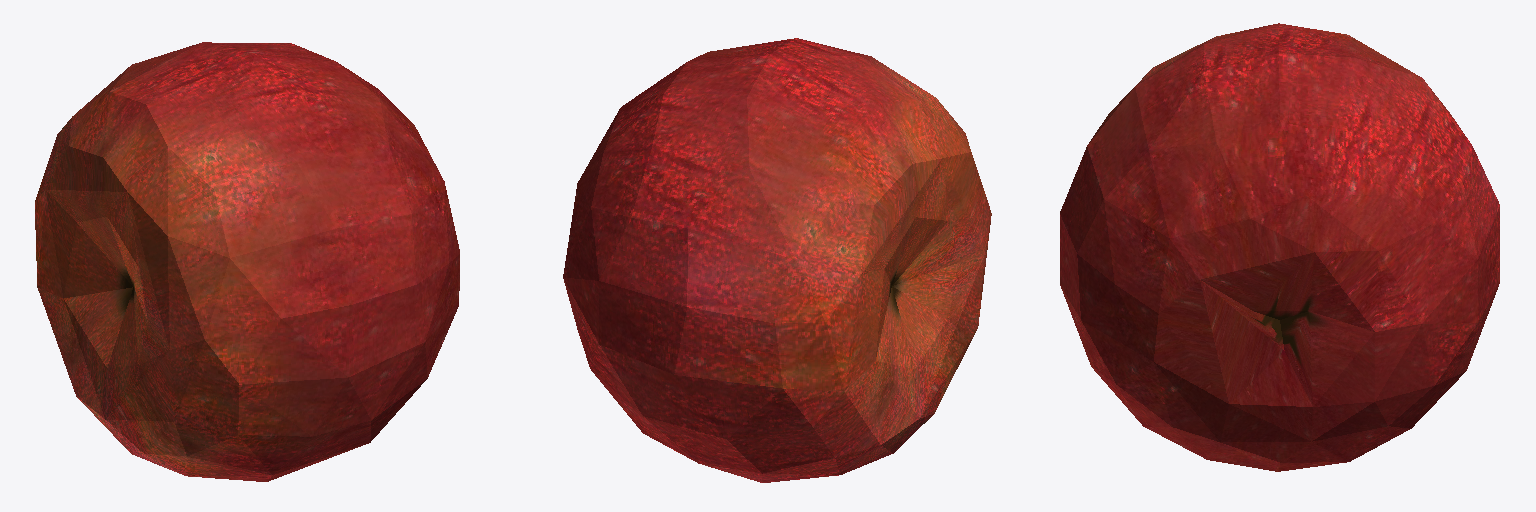
The picture shows the model from 3 angles: view 1: azimuth 30°, elevation 25°; view 2: azimuth 150°, elevation 25°; view 3: azimuth 270°, elevation 25°; orthographic projection.
Visible parts, largest first — view 1: fruit; view 2: fruit; view 3: fruit.
Part boxes in pixels (x1,y1,x2,y2): fruit: (35, 42, 459, 481); fruit: (563, 38, 991, 482); fruit: (1060, 23, 1499, 471).
Bounding box in the file's own units: 0.7865 × 1 × 0.9909.
1 materials, 1 textured.